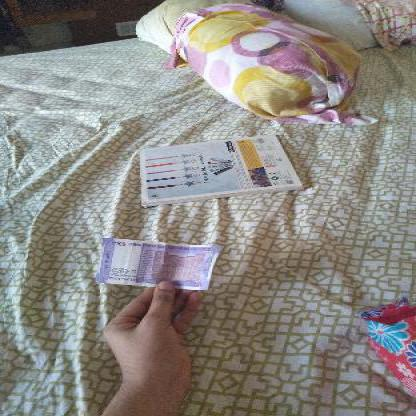New100Back: (100, 236, 220, 289)
